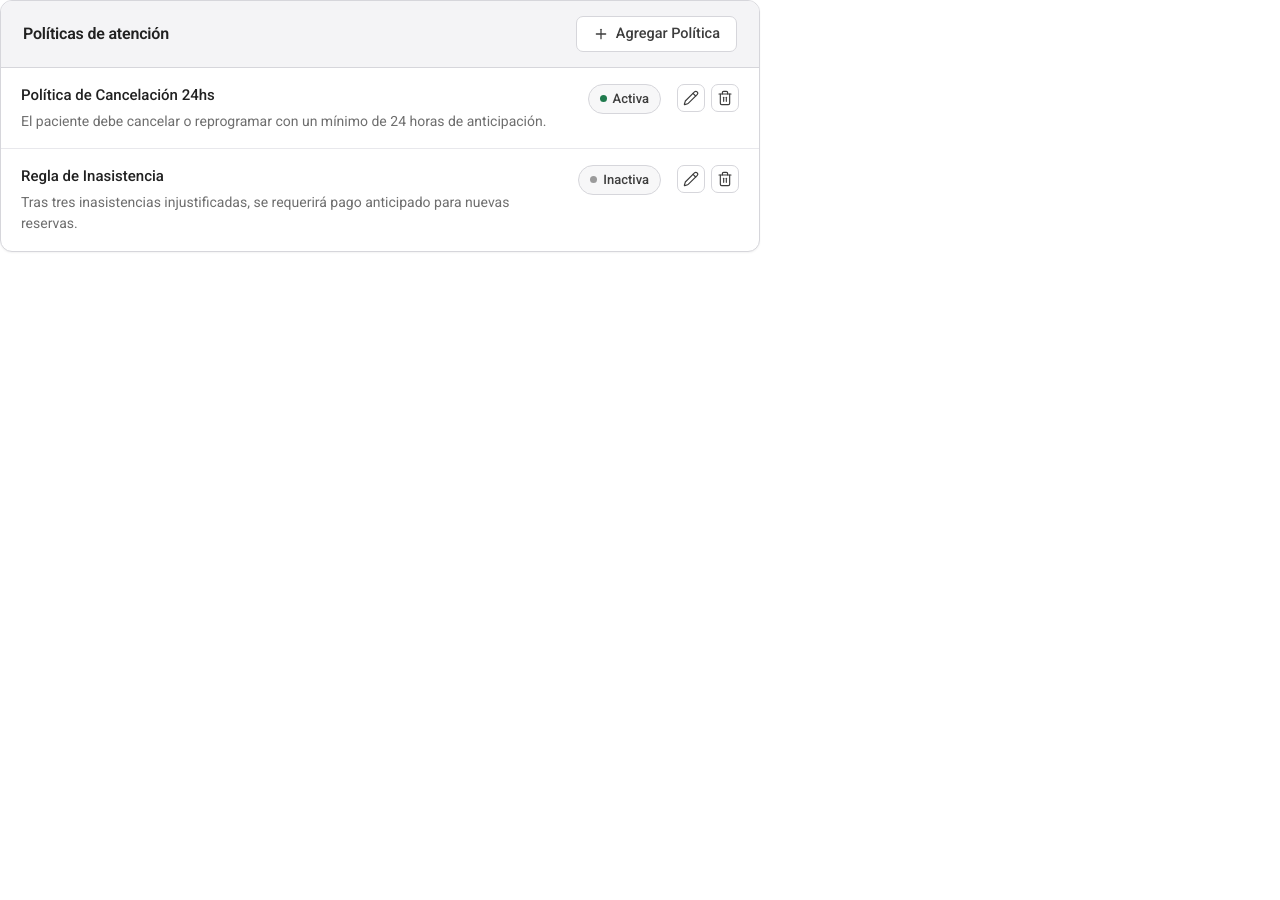
Scenario: PoliciesManager — UI & Validation Integration (Fase 6.2) › shows error validations when title or description is missing and prevents submit
Click the button "Agregar Política". click: [656, 34]
box: [576, 16, 737, 52]
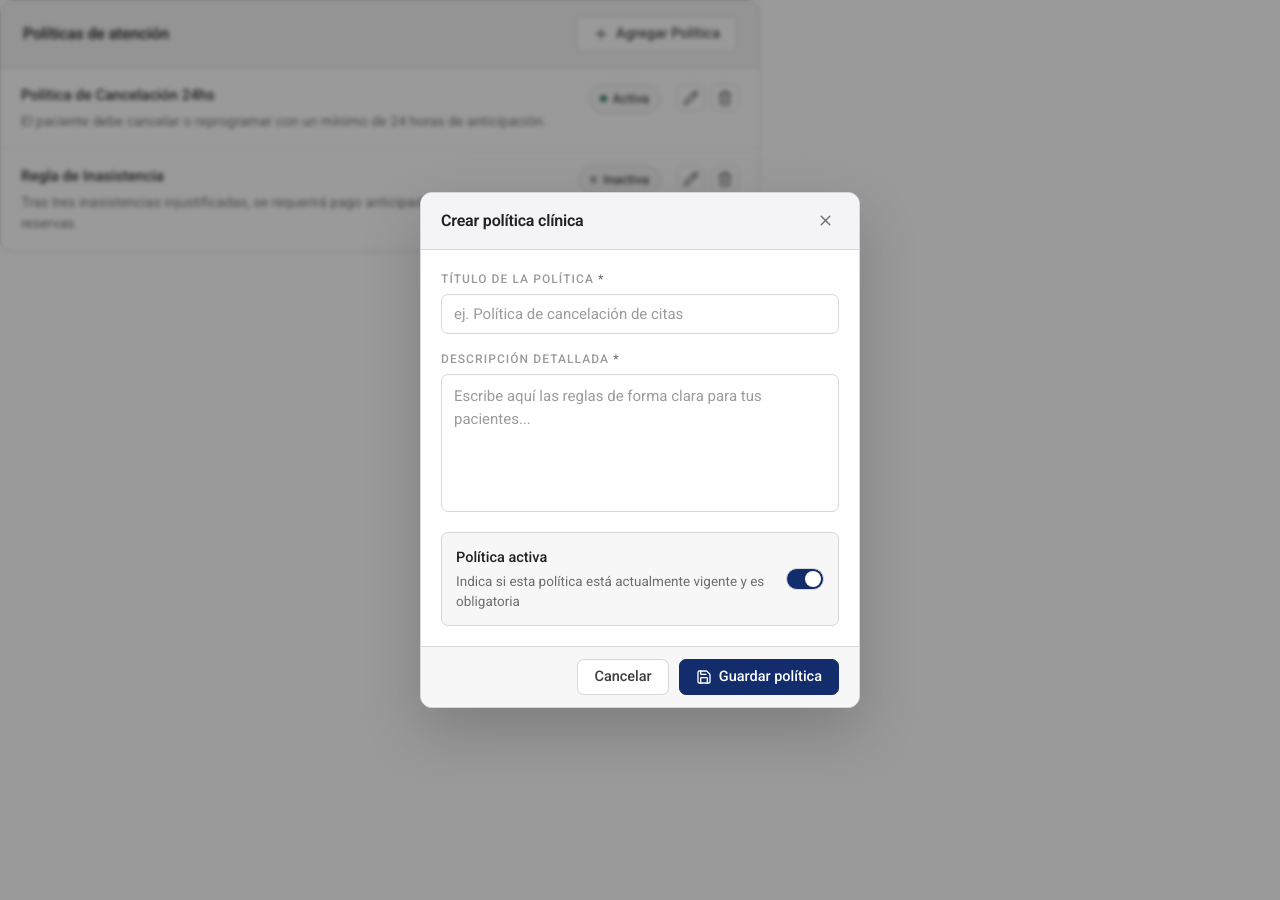
Submit the form named "policy-form", box [441, 270, 839, 626]
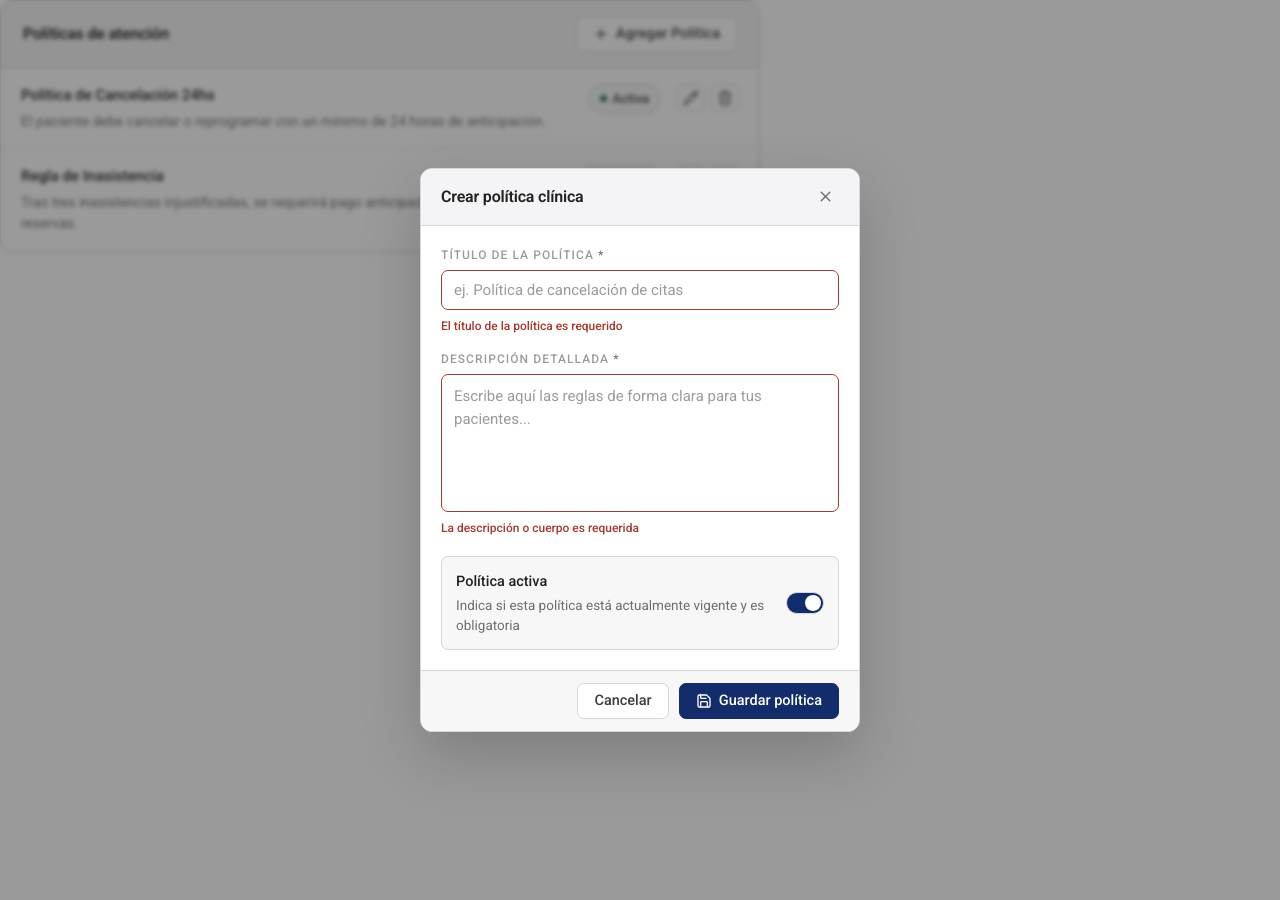
expect the text "El título de la política es requerido" is shown: met, box [441, 319, 623, 333]
